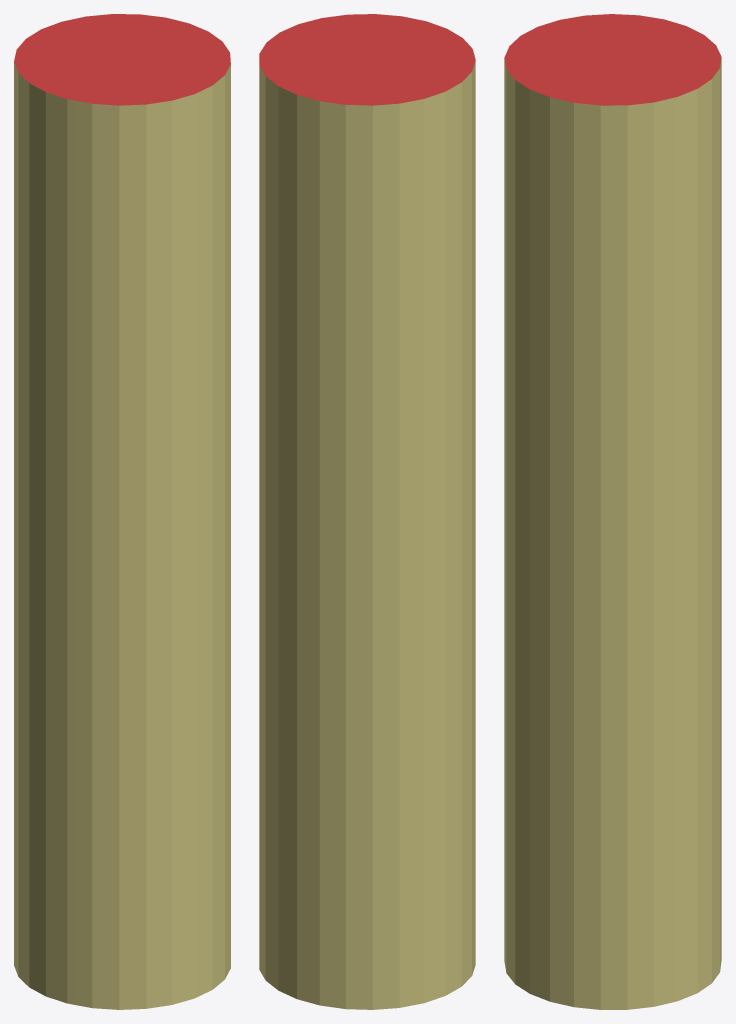
3 renders of one model, left to right at view 1: azimuth 30°, elevation 25°; view 2: azimuth 150°, elevation 25°; view 3: azimuth 270°, elevation 25°, orthographic.
Bounding box in the file's own units: 3.35 × 3.35 × 15.41.
